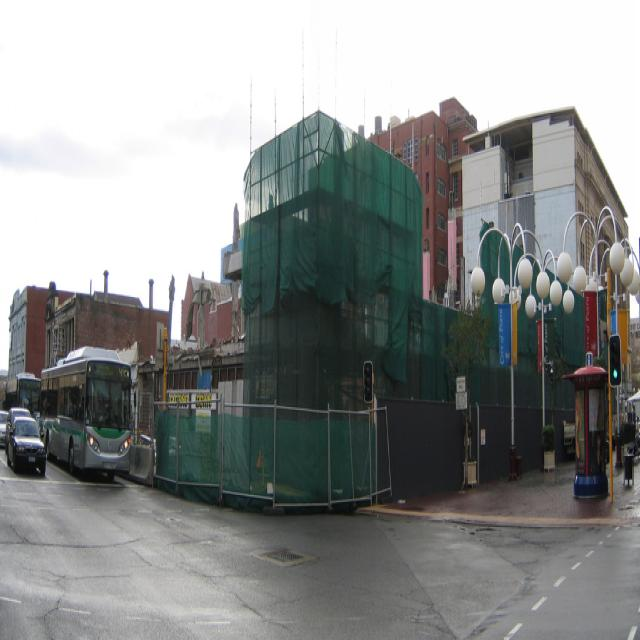car: (6, 410, 44, 474)
